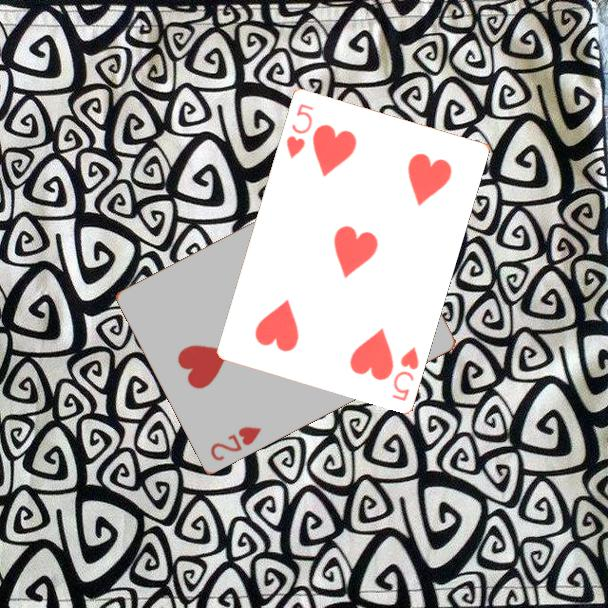h02: (207, 422, 265, 464)
h05: (283, 100, 316, 161), (389, 343, 422, 404)
